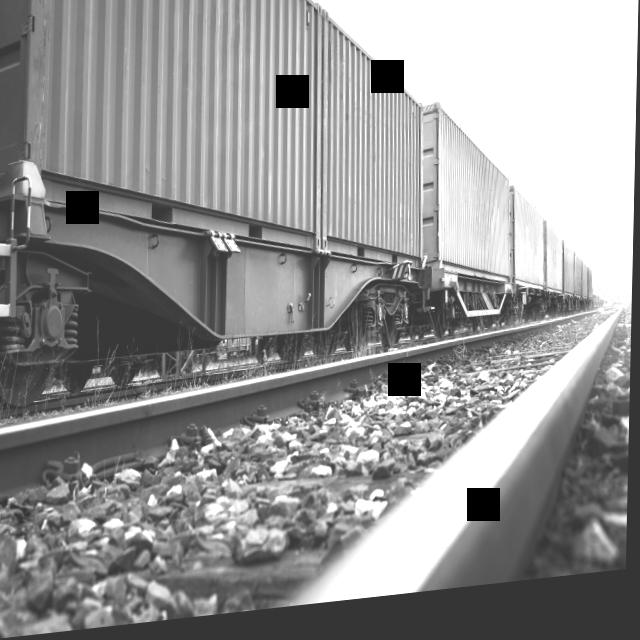container: (0, 0, 329, 294), (321, 8, 432, 289), (420, 102, 516, 300), (509, 192, 548, 303)
flatcar: (0, 121, 434, 398), (428, 268, 519, 347)
